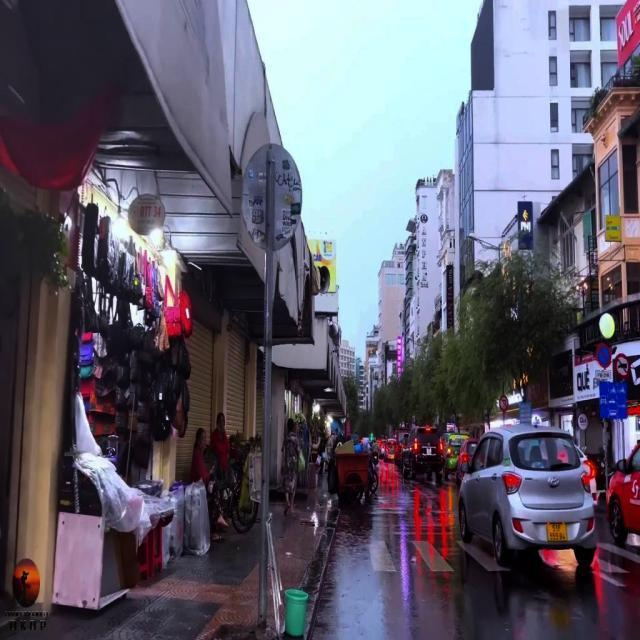106-cam-oto-tai: (614, 352, 630, 381)
123a-cam-re-trai: (500, 396, 508, 412)
131a-cam-do-xe: (595, 344, 613, 368)
